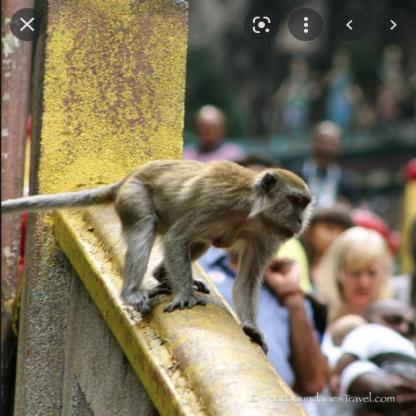monkey: (34, 152, 317, 356)
